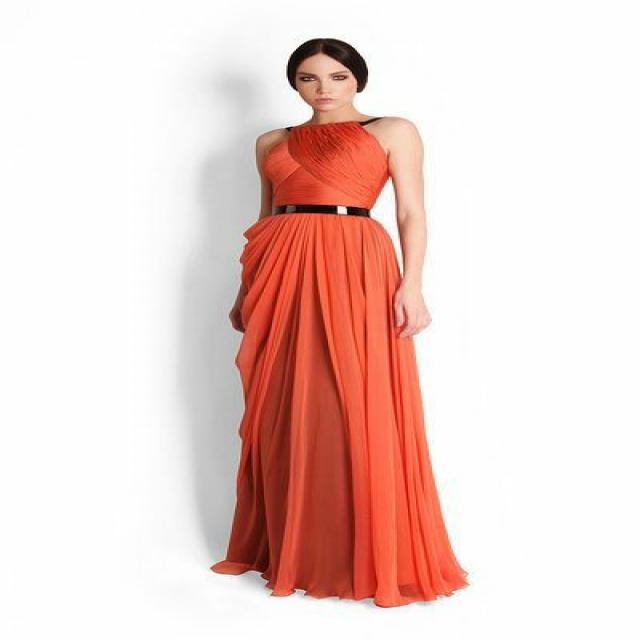female-dress: (246, 125, 457, 602)
